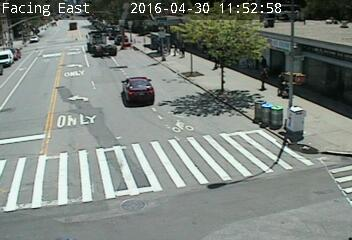neg: (92, 138, 123, 179), (134, 183, 163, 222), (49, 95, 78, 133), (196, 44, 223, 79), (299, 46, 326, 80), (114, 66, 139, 98), (152, 23, 176, 54), (18, 34, 41, 66), (172, 114, 195, 145), (82, 30, 101, 55), (221, 171, 239, 195), (261, 100, 278, 122)
pos: (259, 68, 276, 90)
